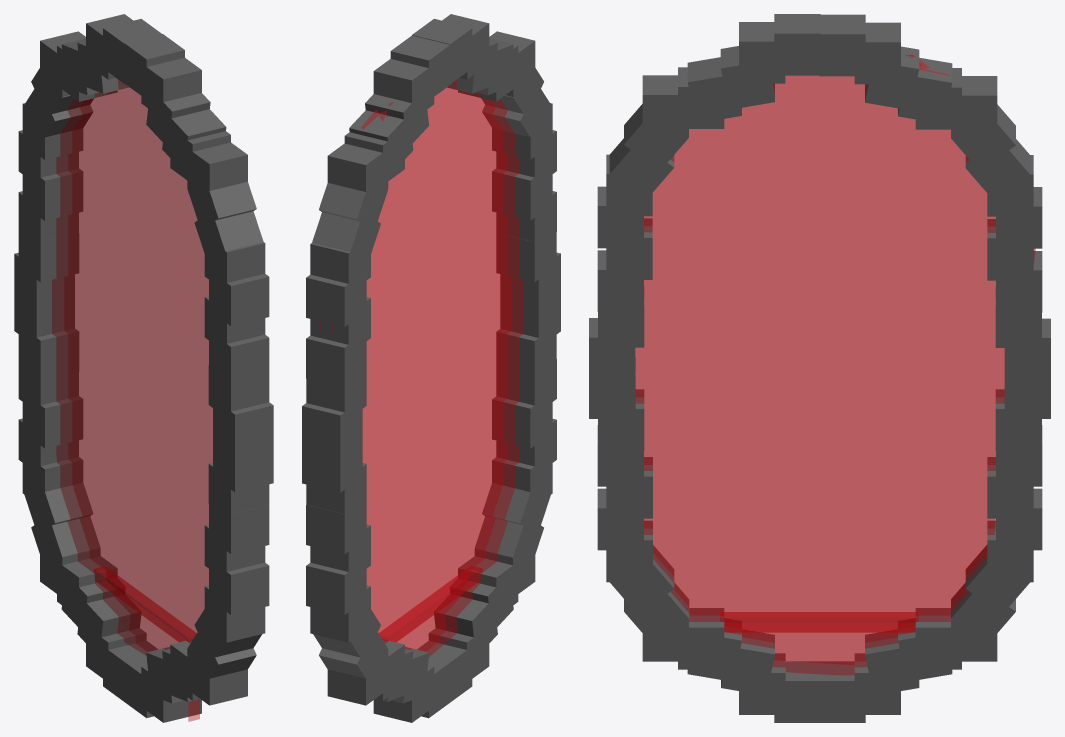
File: Portal B 5.fbx
3 renders of one model, left to right at view 1: azimuth 30°, elevation 25°; view 2: azimuth 150°, elevation 25°; view 3: azimuth 270°, elevation 25°, orthographic. The views are drawn at different scales.
Visible parts, largest first — view 1: Cube.002, Cube; view 2: Cube.002, Cube; view 3: Cube, Cube.002.
Part boxes in pixels (x1,y1,x2,y2): Cube.002: (14,14,273,722); Cube: (52,80,212,721); Cube.002: (302,14,560,722); Cube: (320,79,522,656); Cube: (635,55,1035,674); Cube.002: (589,14,1050,722).
Bounding box in the file's own units: 200 × 3278 × 1990.
